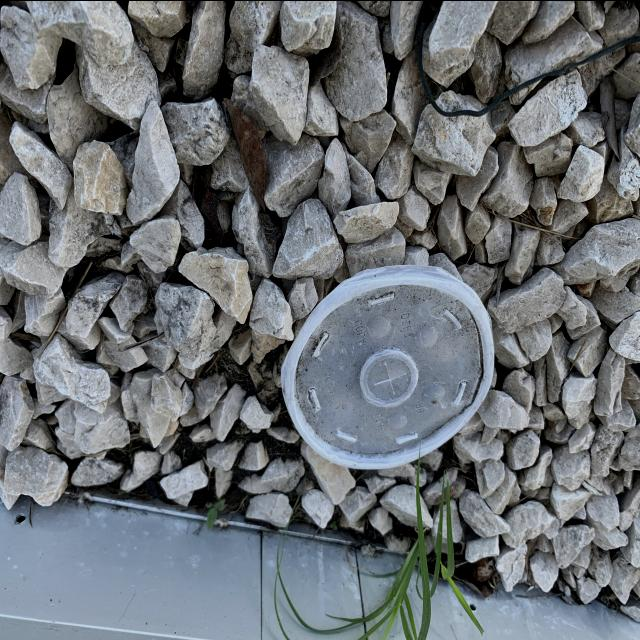Plastic lid: (281, 264, 493, 468)
